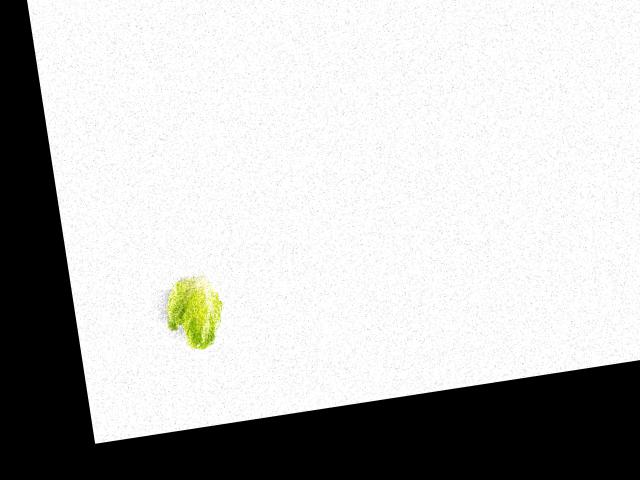lettuce: (158, 263, 232, 358)
